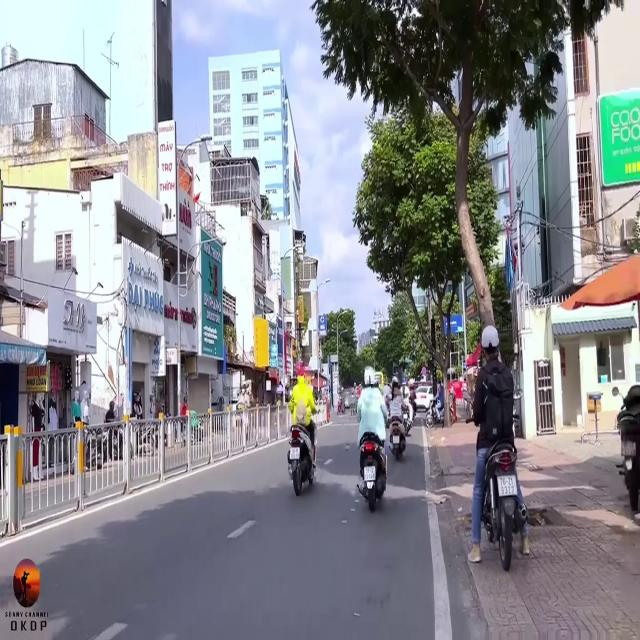bien_trang: (497, 470, 519, 500), (362, 464, 378, 484)
